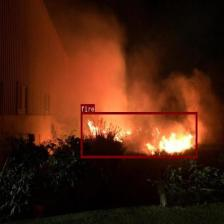fire: (80, 112, 198, 158)
